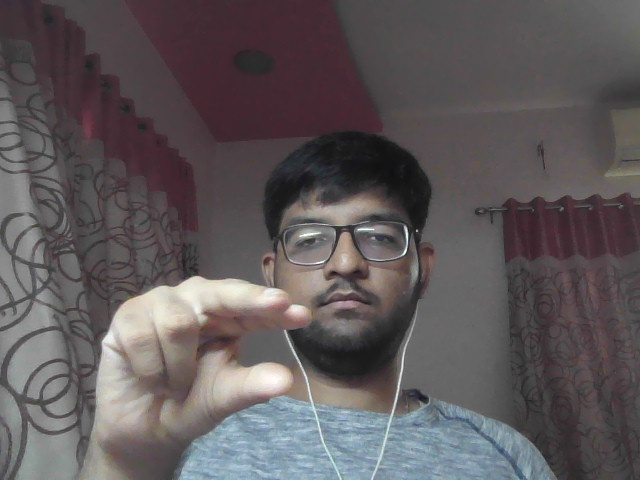ના: (80, 263, 318, 463)
